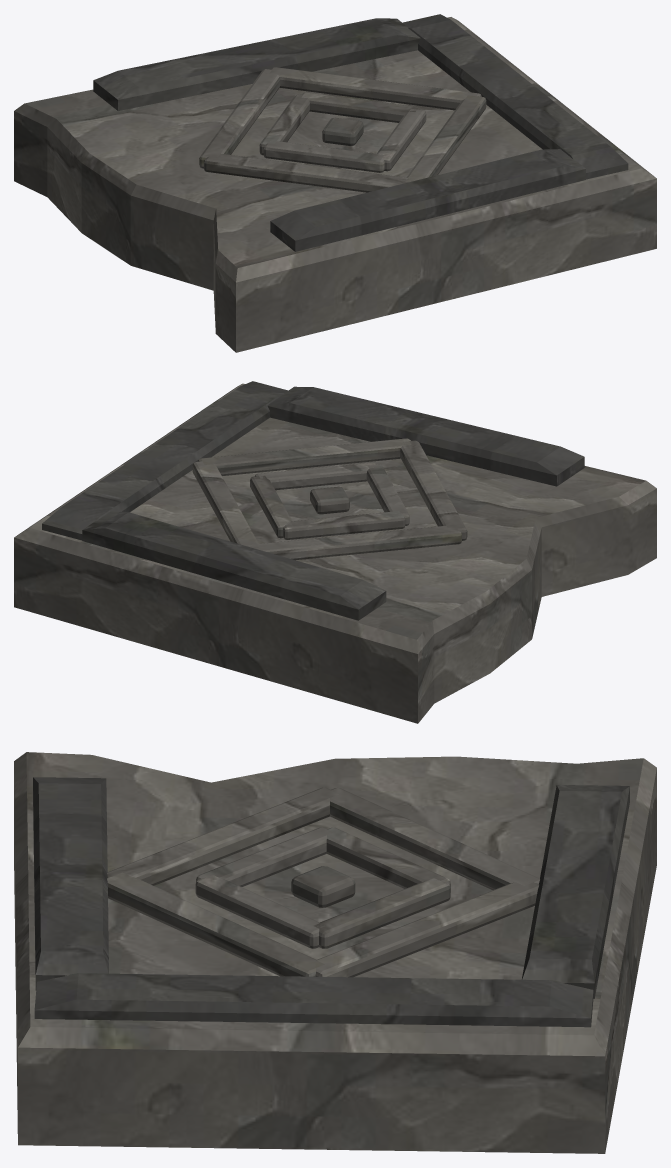
File: junk_coffin_piece_c.glb
3 renders of one model, top to bottom at view 1: azimuth 30°, elevation 25°; view 2: azimuth 150°, elevation 25°; view 3: azimuth 270°, elevation 25°, orthographic. The views are drawn at different scales.
Visible parts, largest first — view 1: model; view 2: model; view 3: model.
Part boxes in pixels (bbox=[...]): model: bbox=[14, 14, 656, 352]; model: bbox=[14, 381, 656, 723]; model: bbox=[14, 752, 656, 1153].
Size of the model in its own units: 0.5704 by 0.122 by 0.5253.
2 materials, 2 textured.
